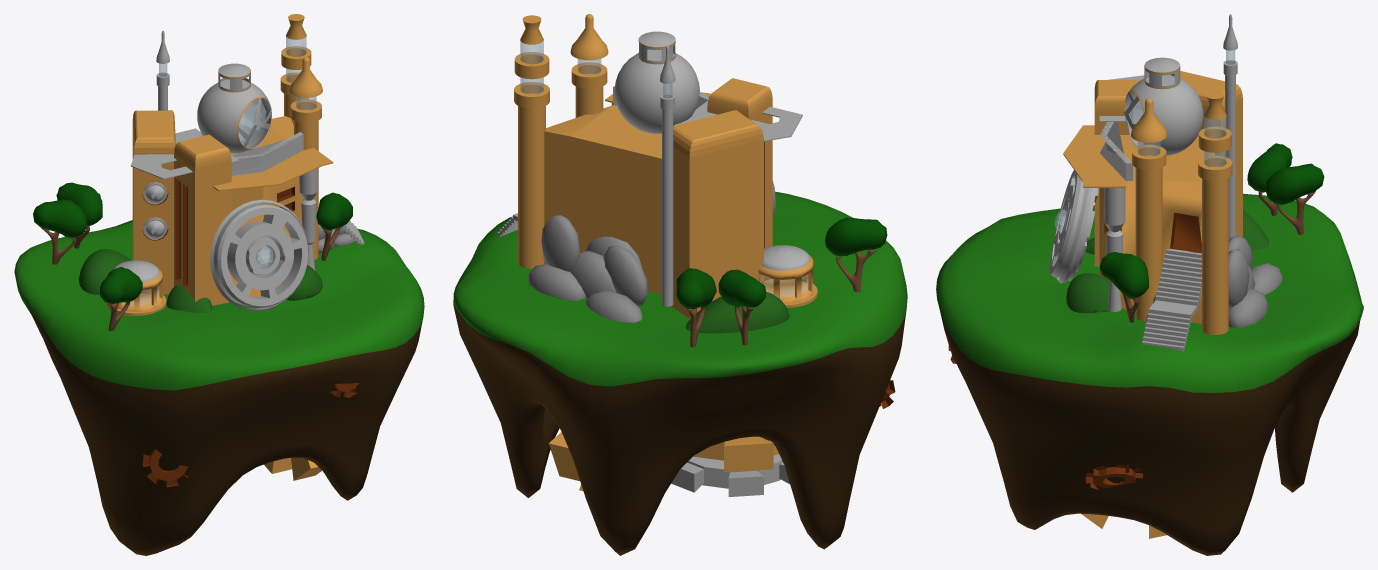
File: Isla AlexBarrios.fbx
The picture shows the model from 3 angles, left to right: view 1: azimuth 30°, elevation 25°; view 2: azimuth 150°, elevation 25°; view 3: azimuth 270°, elevation 25°; orthographic projection. The views are drawn at different scales.
Parts seen in each view (by area): view 1: Plane, Cube.001, BolaArriba, Plane.001, Cube.002; view 2: Plane, Cube.001, Icosphere.001, Plane.001, BolaArriba, Cube.002; view 3: Plane, Cube.001, BolaArriba, Plane.001, Icosphere.001.
Boxes of the visible parts, box(x1,y1,x2,y2) form: Plane: box(14, 220, 424, 555); Cube.001: box(106, 14, 364, 316); BolaArriba: box(197, 63, 318, 311); Plane.001: box(33, 182, 352, 331); Cube.002: box(130, 128, 239, 179); Plane: box(453, 191, 907, 555); Cube.001: box(497, 14, 817, 318); Icosphere.001: box(527, 215, 647, 322); Plane.001: box(676, 217, 887, 347); BolaArriba: box(611, 31, 775, 217); Cube.002: box(674, 101, 802, 141); Plane: box(936, 193, 1363, 555); Cube.001: box(1063, 14, 1242, 351); BolaArriba: box(1049, 57, 1203, 312); Plane.001: box(1099, 143, 1324, 322); Icosphere.001: box(1228, 235, 1282, 328).
Bounding box in the file's own units: 7559 × 9891 × 7598.
